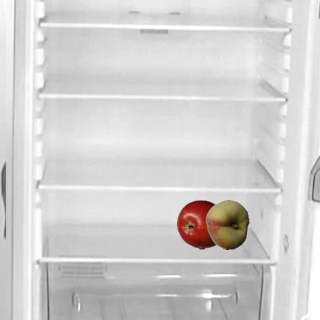Apple Braeburn: (176, 199, 226, 249)
Peach Flat: (202, 199, 252, 249)
